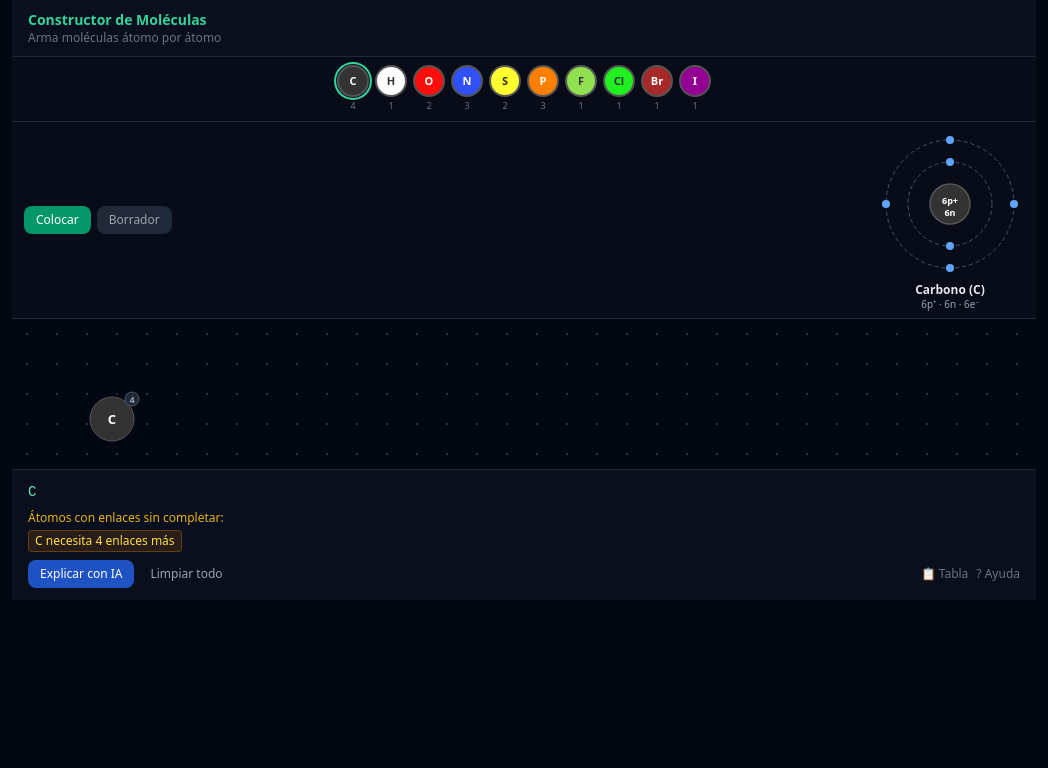
Scenario: MoleculeBuilder › clears all atoms when Limpiar todo is clicked
Expected: the text "Haz clic en el área para colocar átomos" is not shown
Click the button "Limpiar todo" at (187, 574), box left=142, top=562, right=231, bottom=586
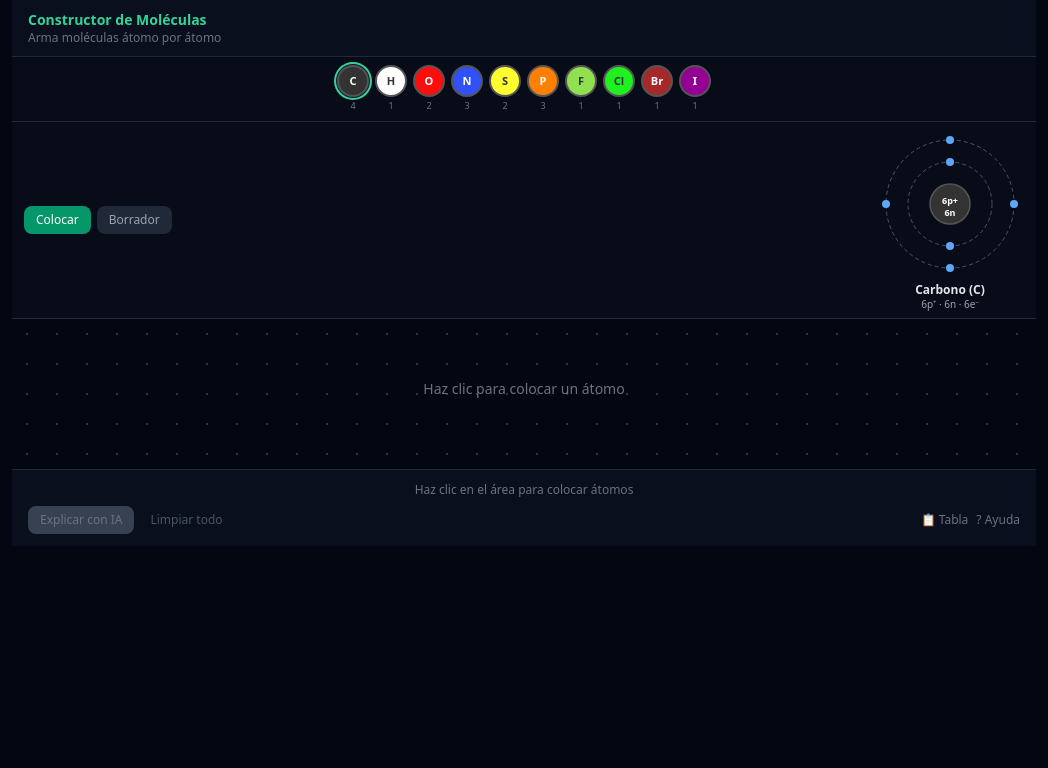
Expected: the text "Haz clic en el área para colocar átomos" is shown, left=415, top=481, right=633, bottom=498
Expected: the button "Explicar con IA" is disabled, left=28, top=506, right=134, bottom=534
